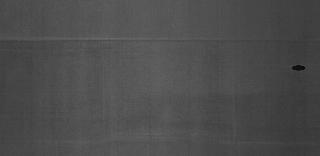punching hole: (290, 64, 308, 72)
welding line: (2, 33, 318, 45)
